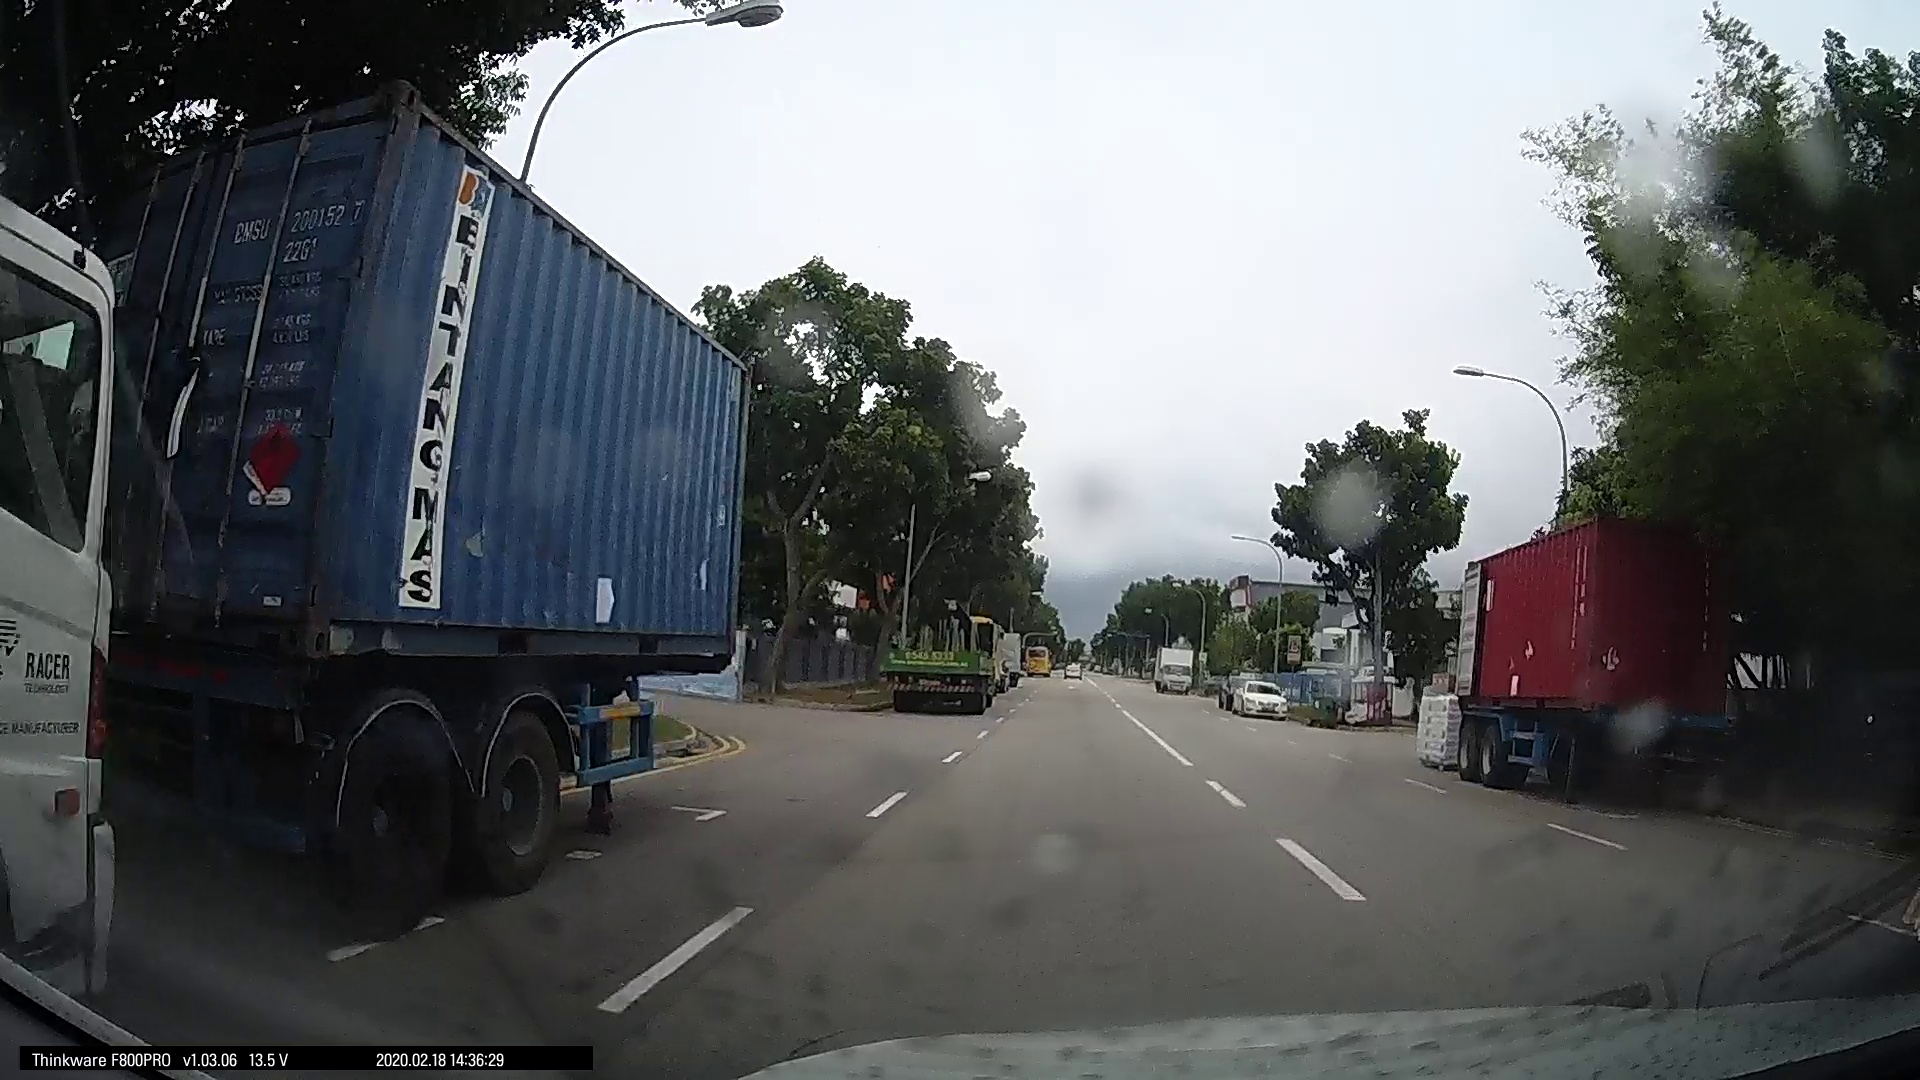Heavy Vehicle: (82, 80, 729, 914), (1443, 506, 1730, 793)
Light Vehicle: (1221, 671, 1288, 720), (1149, 644, 1193, 694)
